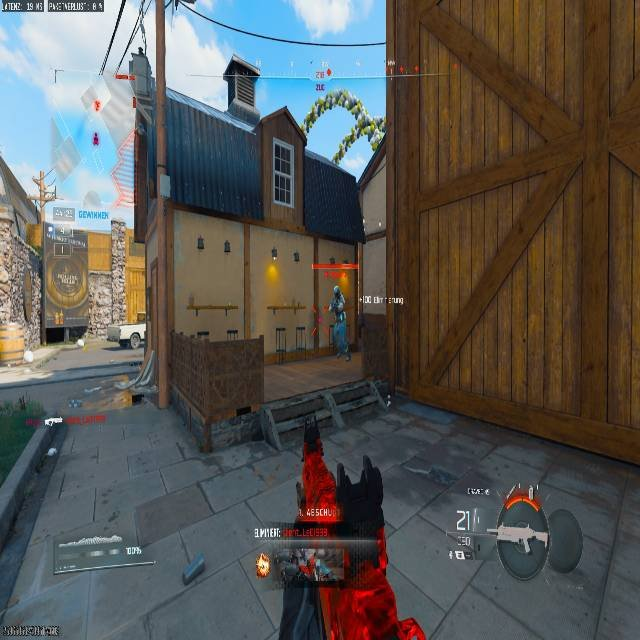head: (332, 285, 341, 296)
player: (275, 416, 410, 639), (326, 285, 349, 356), (330, 286, 345, 326)
